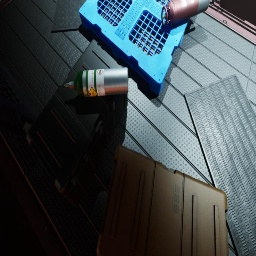0: (64, 67, 128, 97)
NitrogenTank ,: (161, 0, 210, 27)
